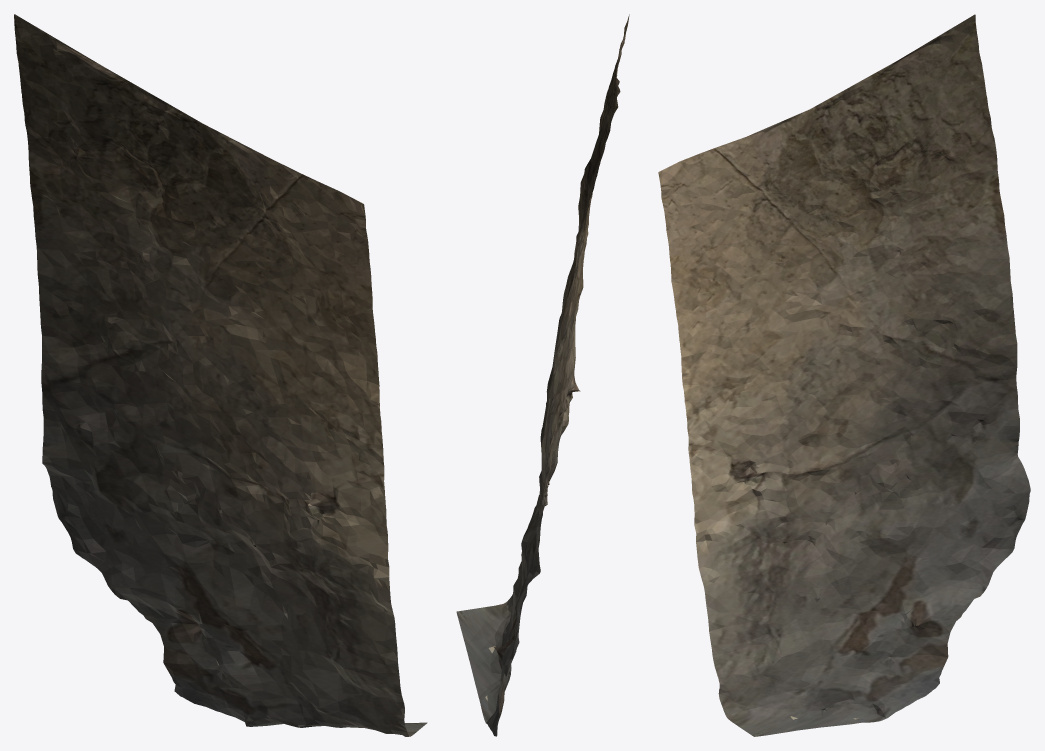
The model's file is tile_6_1.obj.
The picture shows the model from 3 angles, left to right: view 1: azimuth 30°, elevation 25°; view 2: azimuth 150°, elevation 25°; view 3: azimuth 270°, elevation 25°; orthographic projection. The views are drawn at different scales.
Parts seen in each view (by area): view 1: texture_0; view 2: texture_0; view 3: texture_0.
Part boxes in pixels (box(x1,y1,x2,y2)): texture_0: box(14, 14, 427, 736); texture_0: box(456, 14, 629, 736); texture_0: box(658, 14, 1030, 736).
Bounding box in the file's own units: 0.293 × 0.6982 × 0.3758.
1 material, 1 textured.
